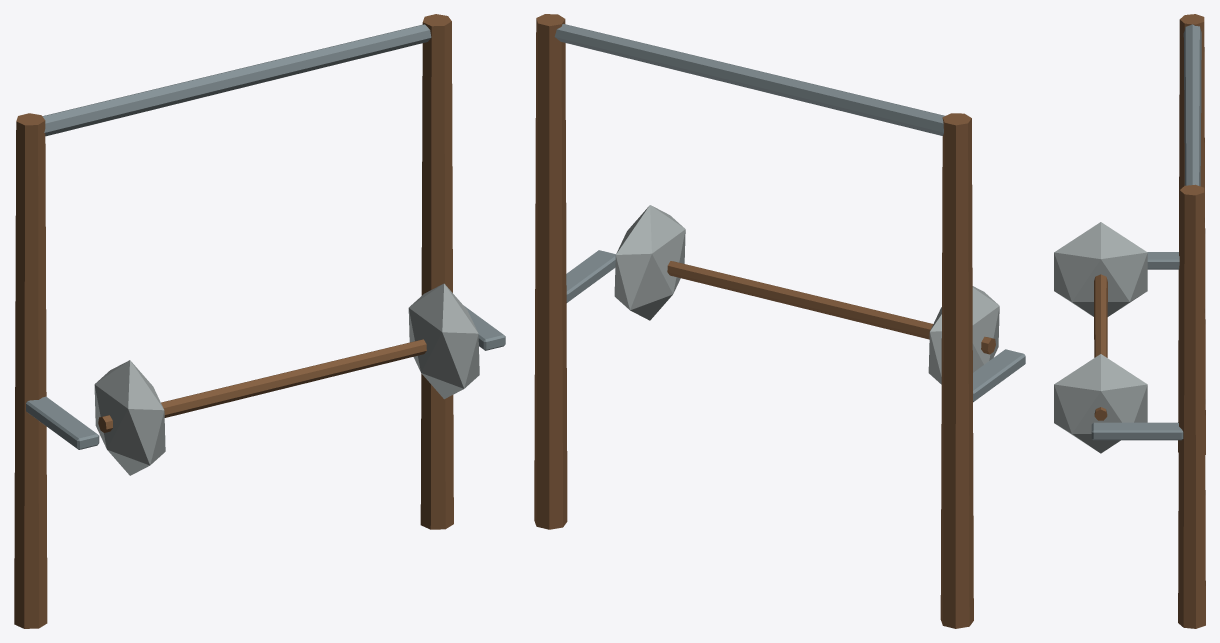
File: CC_ExerciseRig.fbx
3 views of the same model, side by side, from view 1: azimuth 30°, elevation 25°; view 2: azimuth 150°, elevation 25°; view 3: azimuth 270°, elevation 25° (orthographic). The views are drawn at different scales.
Visible parts, largest first — view 1: Rack post, Rack post.001, Pull-up bar, Stone weight, Stone weight.001, Barbell, Bar hook, Bar hook.001; view 2: Rack post, Rack post.001, Pull-up bar, Stone weight.001, Barbell, Stone weight, Bar hook, Bar hook.001; view 3: Rack post.001, Stone weight, Stone weight.001, Pull-up bar, Rack post, Bar hook.001, Barbell, Bar hook.
Part boxes in pixels (x1,y1,x2,y2): Rack post: (14, 113, 47, 628); Rack post.001: (420, 14, 453, 529); Pull-up bar: (42, 24, 431, 136); Stone weight: (94, 360, 165, 475); Stone weight.001: (408, 283, 479, 399); Barbell: (98, 339, 426, 432); Bar hook: (26, 396, 99, 449); Bar hook.001: (464, 306, 505, 350); Rack post: (940, 113, 973, 628); Rack post.001: (534, 14, 567, 529); Pull-up bar: (554, 24, 944, 135); Stone weight.001: (614, 205, 685, 320); Barbell: (667, 261, 995, 354); Stone weight: (928, 286, 999, 384); Bar hook: (973, 349, 1025, 402); Bar hook.001: (566, 250, 615, 302); Rack post.001: (1178, 184, 1205, 628); Stone weight: (1054, 222, 1147, 316); Stone weight.001: (1054, 354, 1147, 453); Pull-up bar: (1183, 24, 1201, 186); Rack post: (1178, 14, 1205, 454); Bar hook.001: (1091, 422, 1183, 440); Barbell: (1094, 274, 1107, 420); Bar hook: (1147, 252, 1179, 269).
Bounding box in the file's own units: 2.36 × 2.6 × 0.8273.
